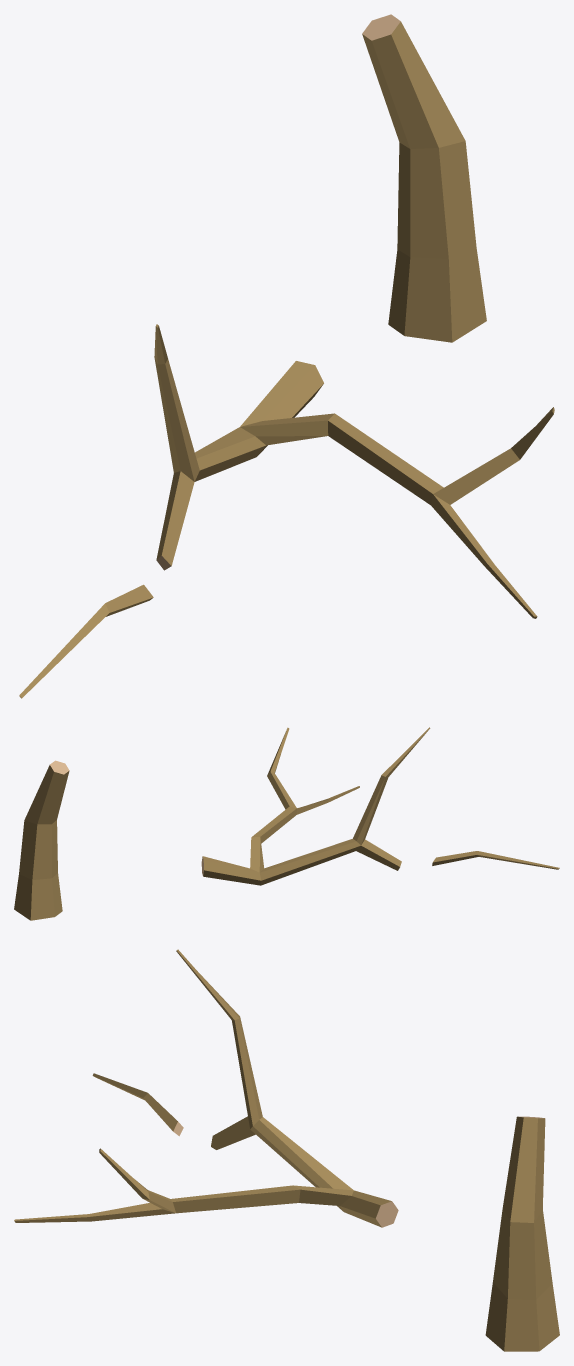
The model's file is Oak_Tree_NoLeaves_crk_m_03_LOD.fbx.
The picture shows the model from 3 angles, top to bottom: view 1: azimuth 30°, elevation 25°; view 2: azimuth 150°, elevation 25°; view 3: azimuth 270°, elevation 25°; orthographic projection. The views are drawn at different scales.
Parts seen in each view (by area): view 1: Oak_Tree_NoLeaves_crk_m_03_LOD0; view 2: Oak_Tree_NoLeaves_crk_m_03_LOD0; view 3: Oak_Tree_NoLeaves_crk_m_03_LOD0.
Boxes of the visible parts, left/top/right/bottom form: Oak_Tree_NoLeaves_crk_m_03_LOD0: left=19, top=14, right=554, bottom=698; Oak_Tree_NoLeaves_crk_m_03_LOD0: left=14, top=727, right=559, bottom=920; Oak_Tree_NoLeaves_crk_m_03_LOD0: left=14, top=949, right=559, bottom=1351.
Size of what is drawn, in the model's own units: 626 by 242 by 563.
